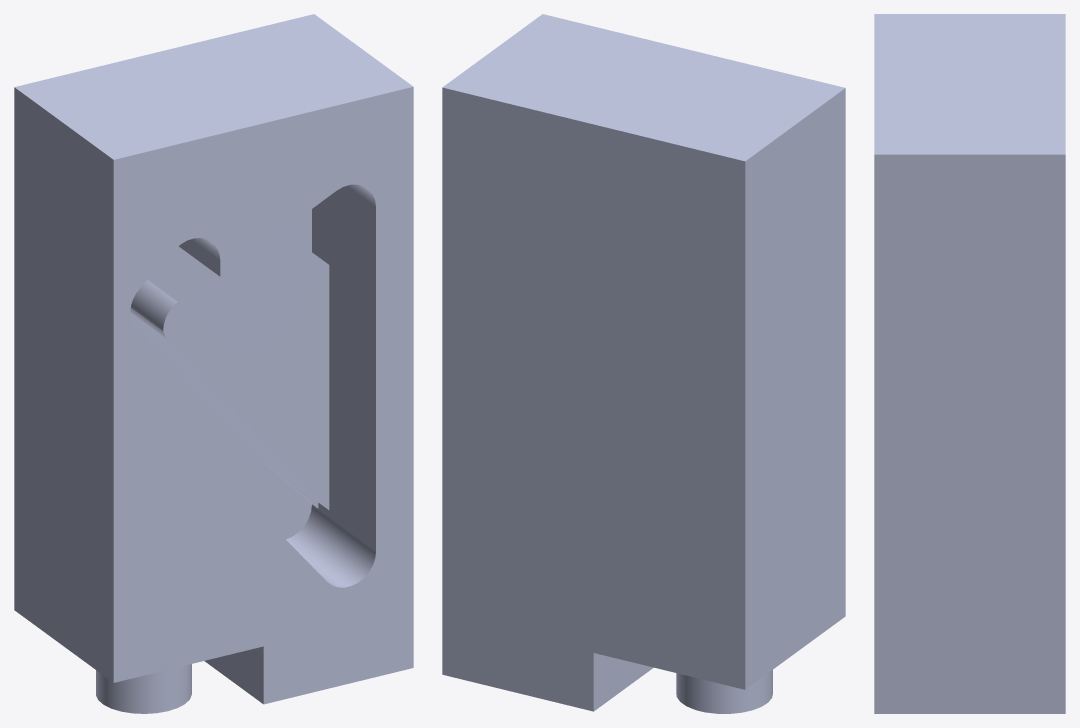
The model's file is PPslide.glb.
3 views of the same model, side by side, from view 1: azimuth 30°, elevation 25°; view 2: azimuth 150°, elevation 25°; view 3: azimuth 270°, elevation 25° (orthographic). The views are drawn at different scales.
Visible parts, largest first — view 1: PPslide; view 2: PPslide; view 3: PPslide.
Boxes of the visible parts, bbox=[...] form: PPslide: bbox=[14, 14, 413, 713]; PPslide: bbox=[442, 14, 845, 713]; PPslide: bbox=[874, 14, 1065, 713].
Size of the model in its own units: 0.054 by 0.1006 by 0.031.
